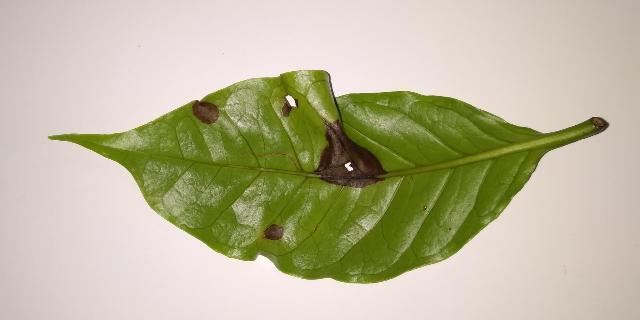rust: (312, 120, 386, 188), (192, 100, 218, 124), (282, 94, 298, 116), (262, 224, 283, 240)
